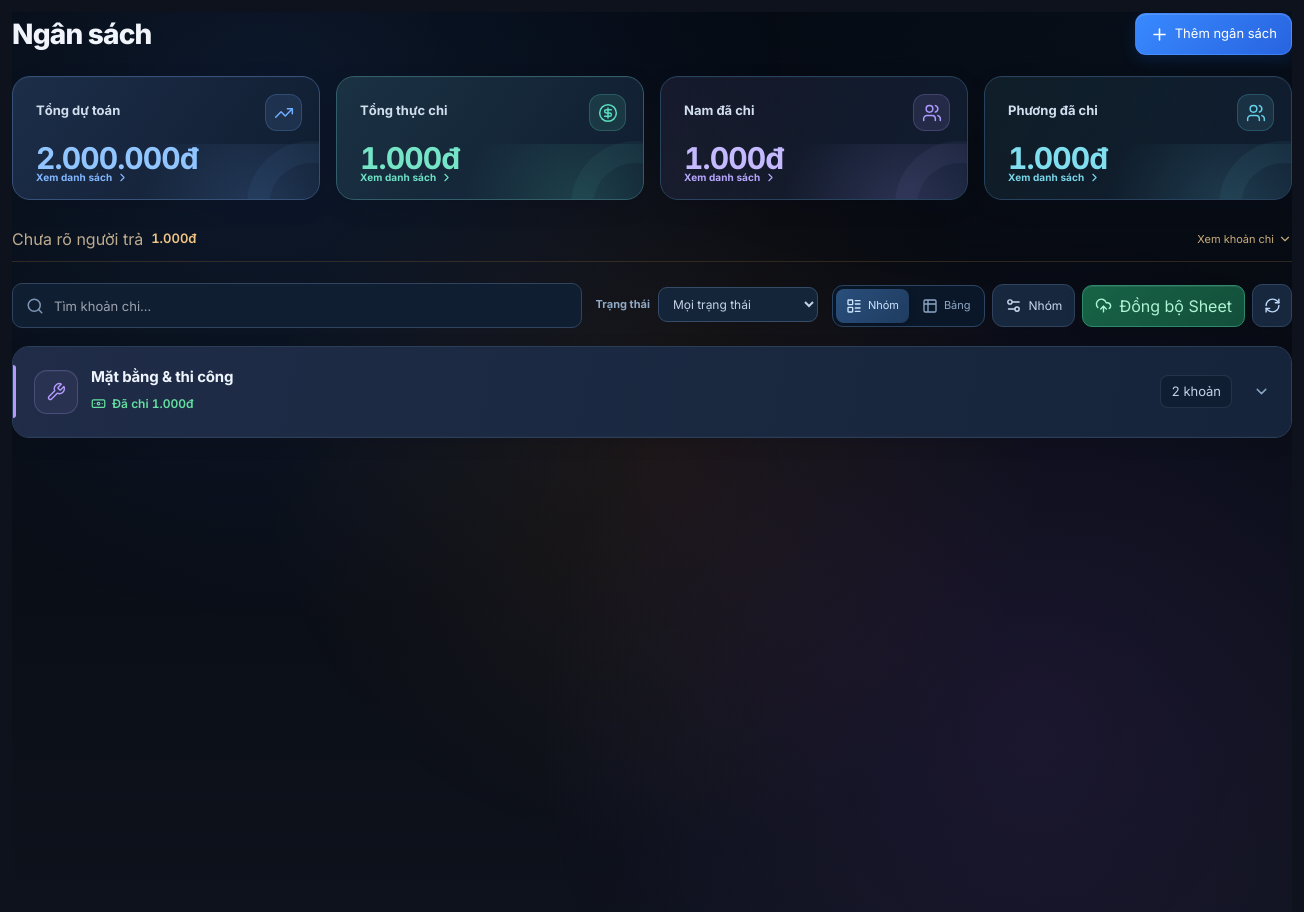
Test case: Checklist and Budget interactions › shows dashes for zero-value table money and exposes the image capture action only in table view
The width and height of the screenshot is (1304, 912).
Click the button with aria-label "Dạng bảng" at (946, 306), box [912,288,980,322]
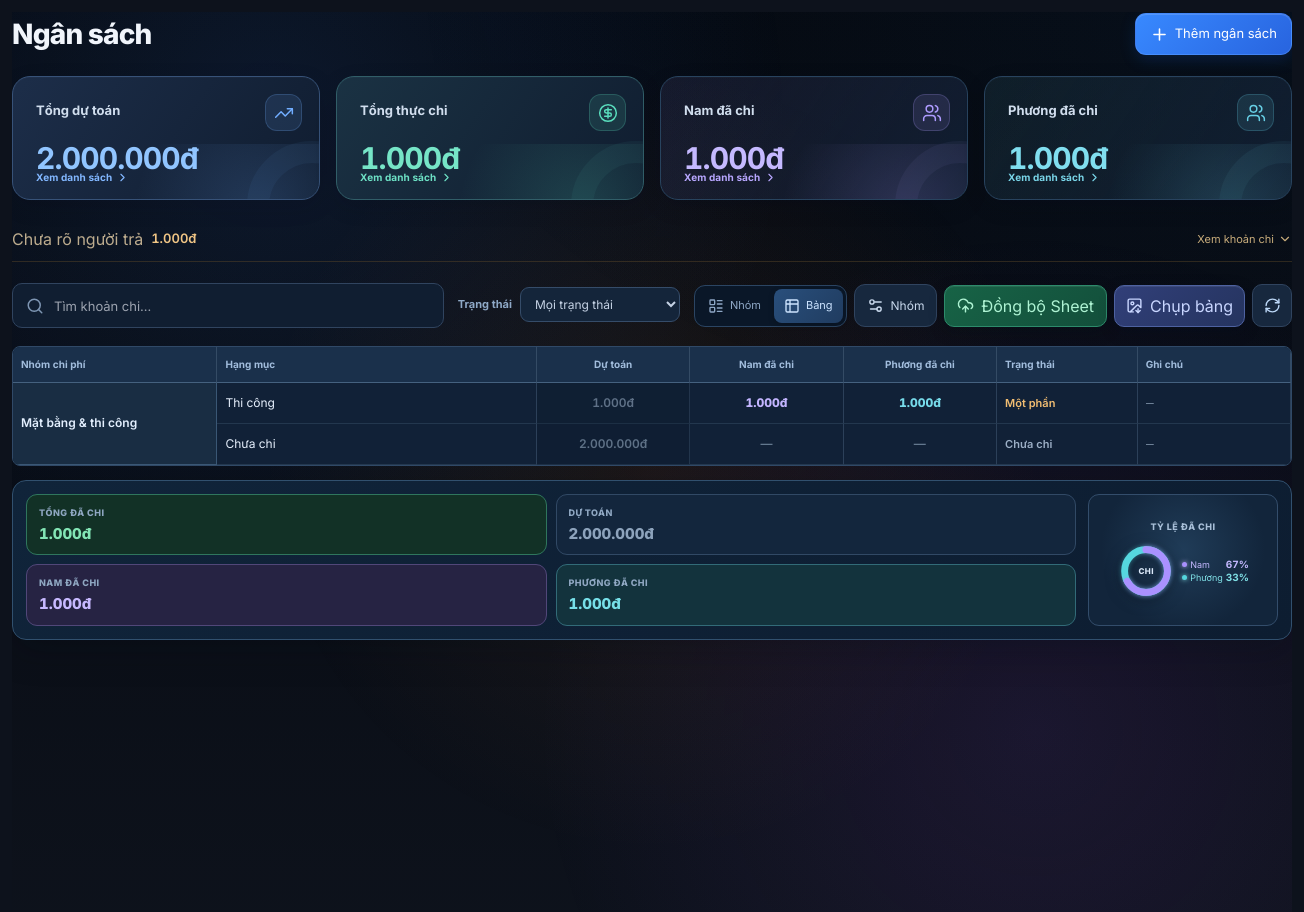
Check: the button with aria-label "Chụp bảng thành ảnh" is shown, box [1114,284,1245,326]
